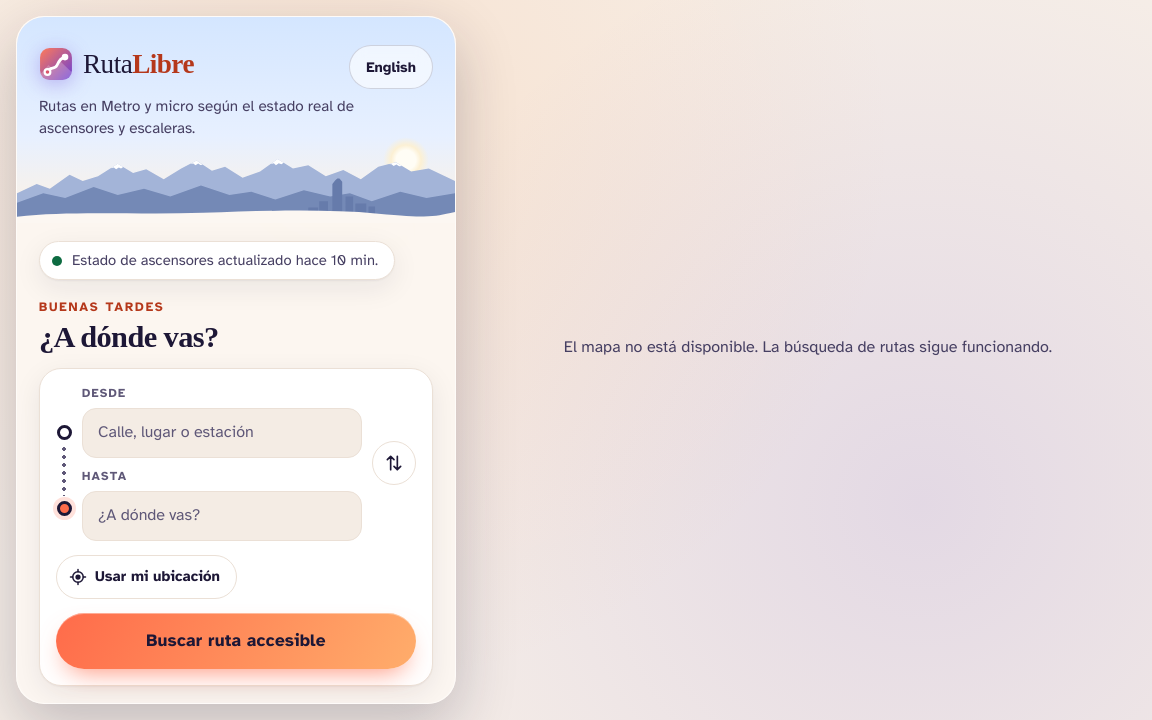
Test: App › says so when planning fails
Type "Univ" into the dropdown labelled "Desde". click: (222, 433)
box: [82,408,362,458]
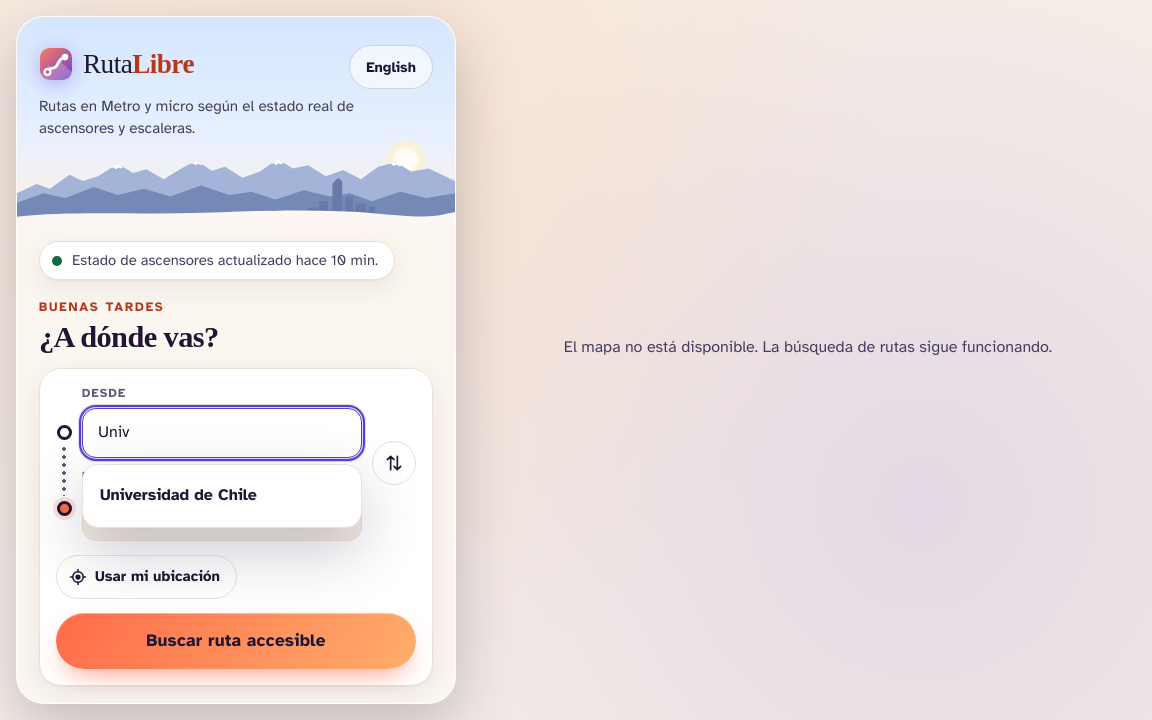
Click the option "Universidad de Chile". click: (178, 495)
box: [100,485,257,505]
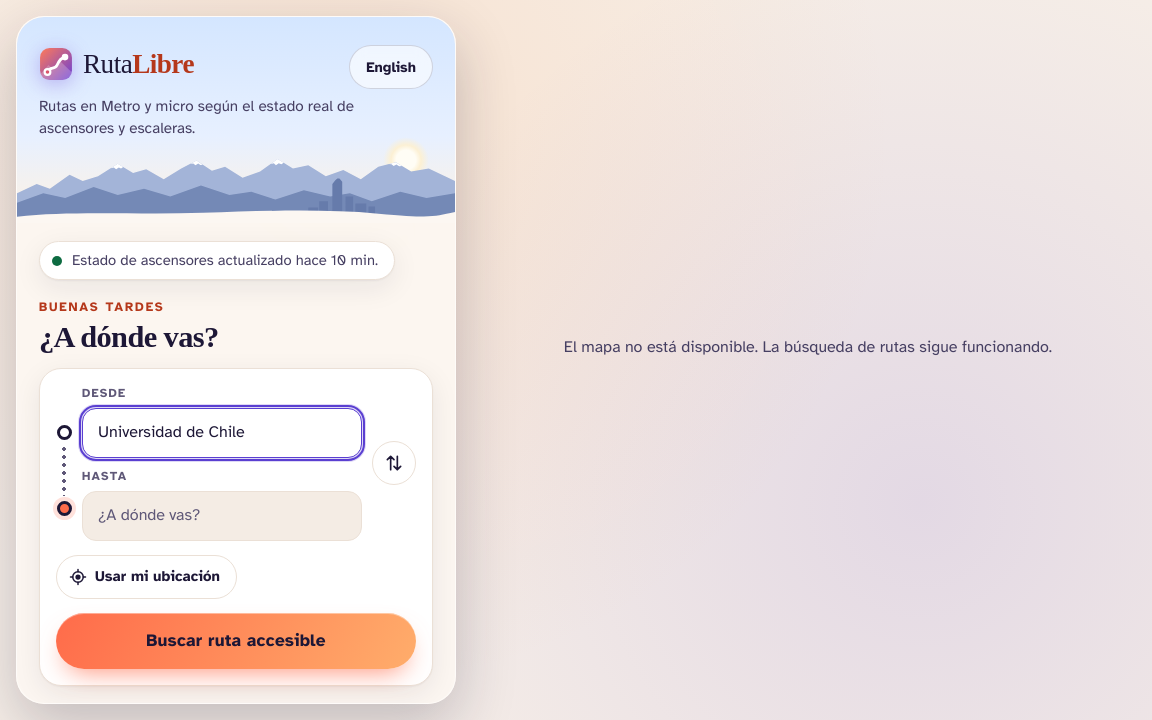
Type "Univ" into the dropdown labelled "Hasta". click: (222, 516)
box: [82,491,362,541]
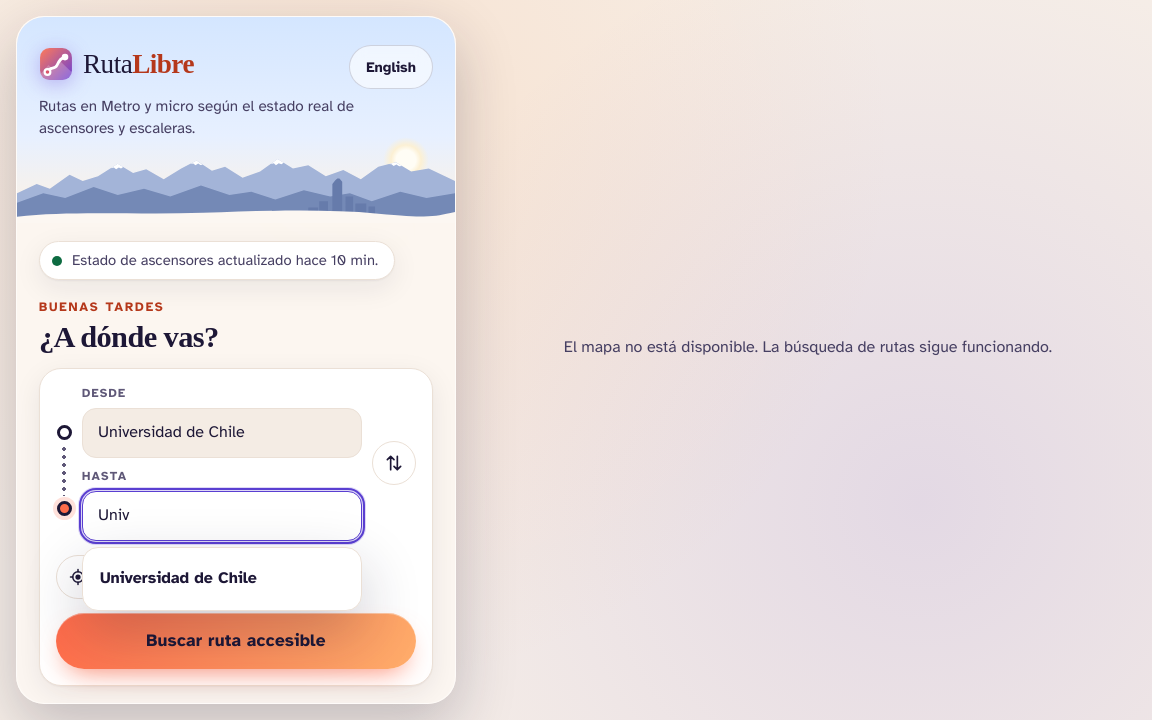
Click the option "Universidad de Chile". click: (178, 578)
box: [100,568,257,588]
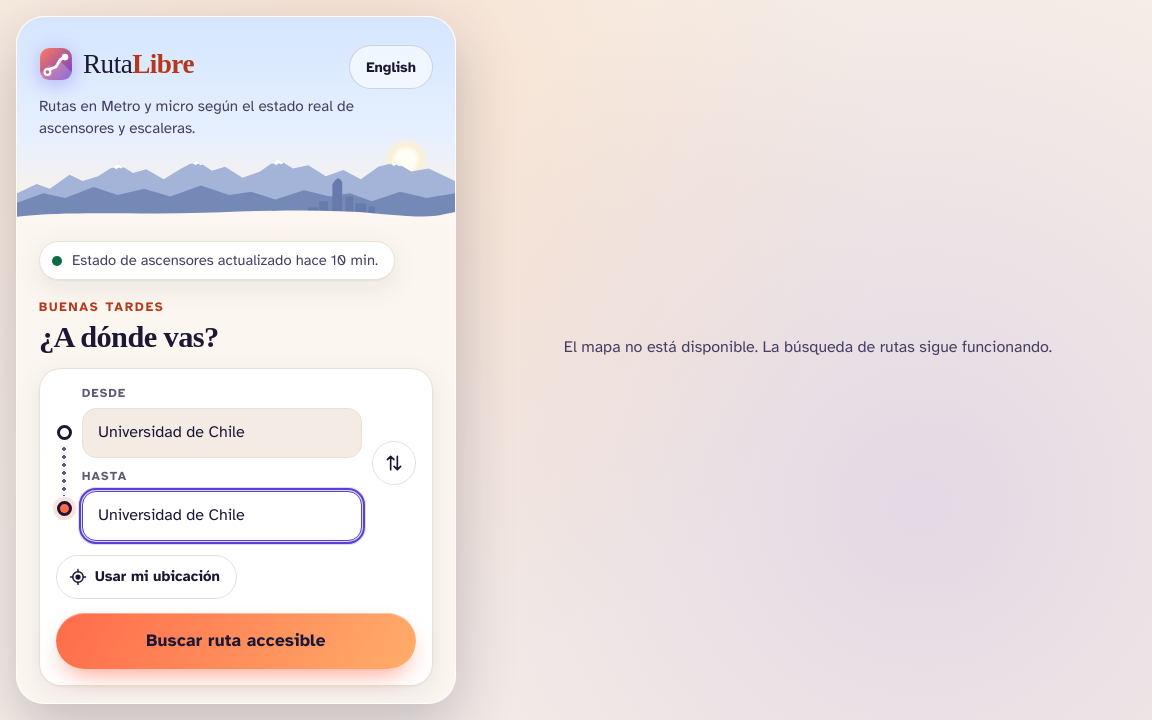
Click the button "Buscar ruta accesible". click: (236, 641)
box: [56,613,416,669]
(page scrolled)
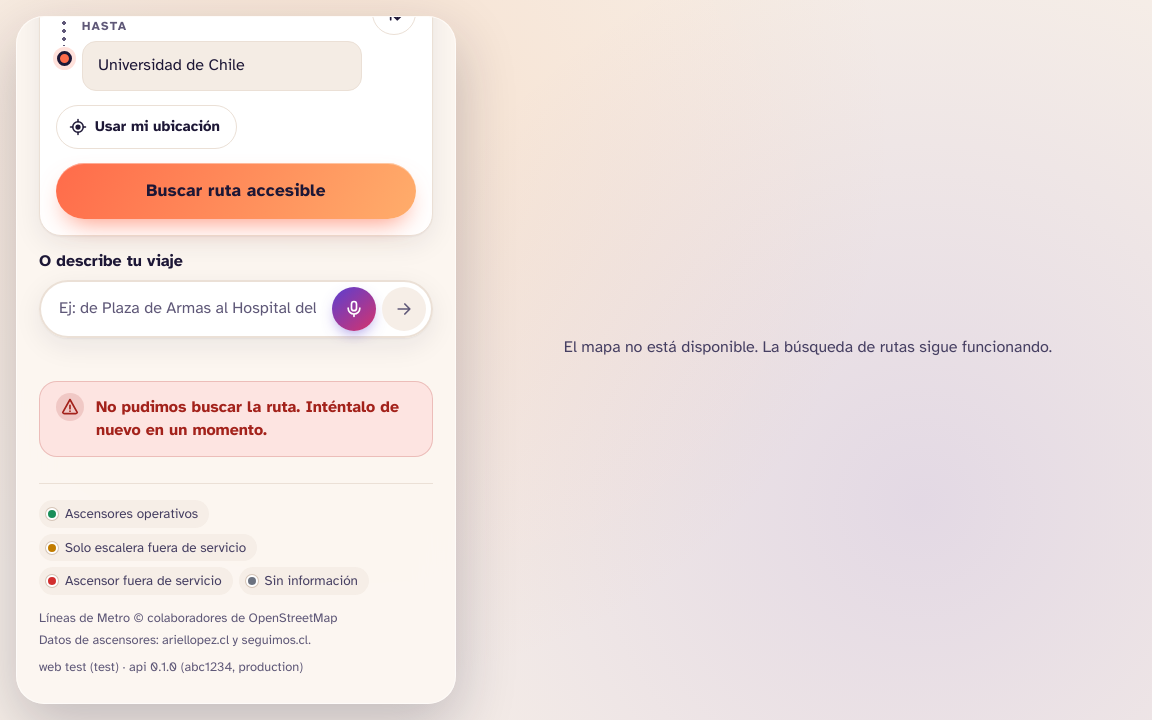
Expected: the text "No pudimos buscar la ruta. Inténtalo de nuevo en un momento." is shown, [39,381,433,458]
